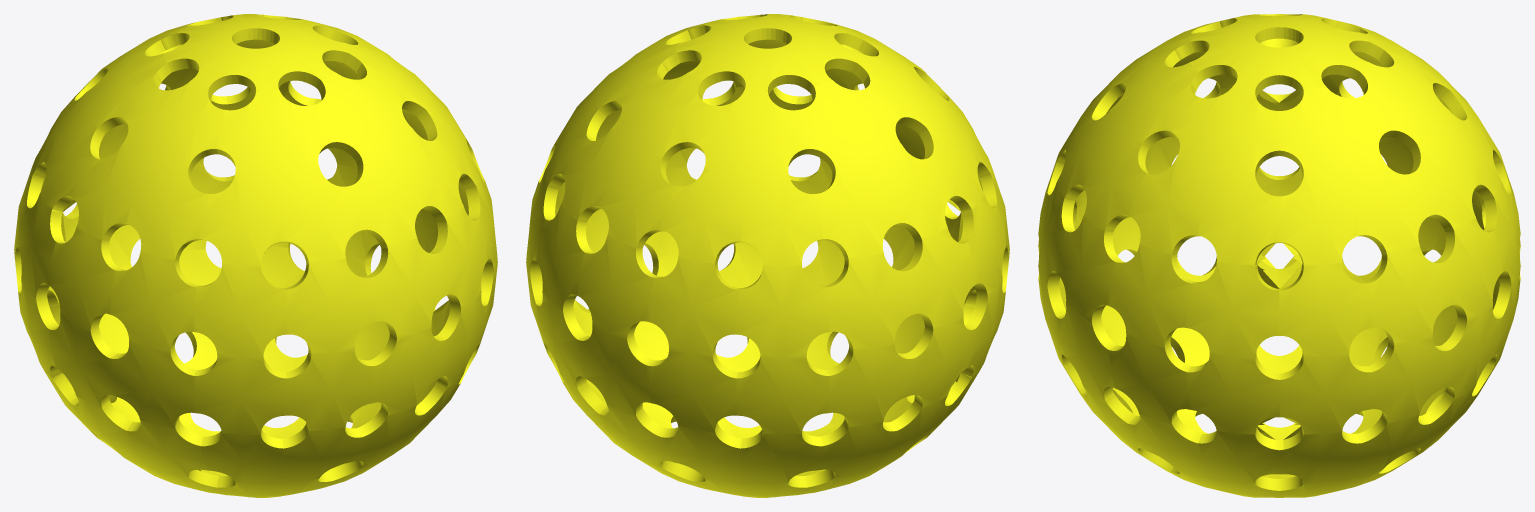
File: pickleball-ball.fbx
3 renders of one model, left to right at view 1: azimuth 30°, elevation 25°; view 2: azimuth 150°, elevation 25°; view 3: azimuth 270°, elevation 25°, orthographic.
Parts seen in each view (by area): view 1: ball; view 2: ball; view 3: ball.
Boxes of the visible parts, bbox=[...] form: ball: bbox=[14, 14, 497, 497]; ball: bbox=[526, 14, 1009, 497]; ball: bbox=[1038, 14, 1520, 497].
Size of the model in its own units: 40.03 by 40.03 by 40.03.
